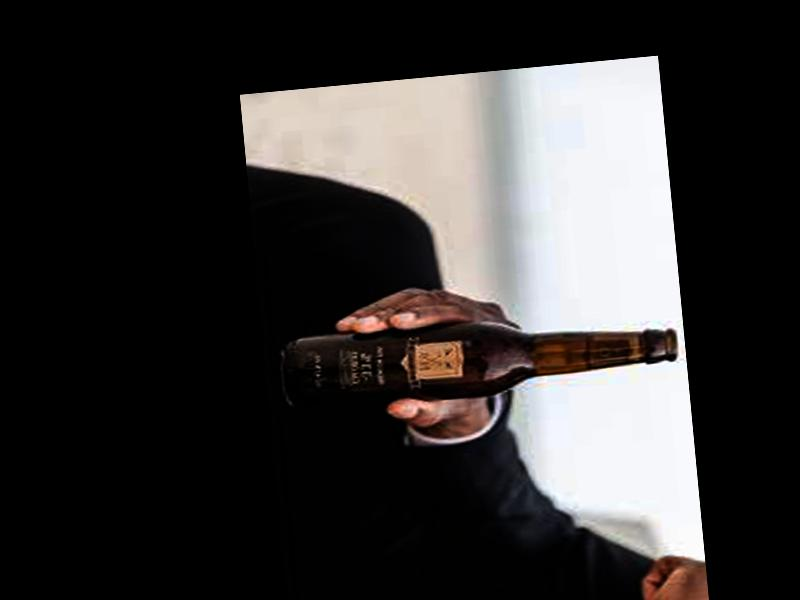Beer: (277, 301, 679, 412)
